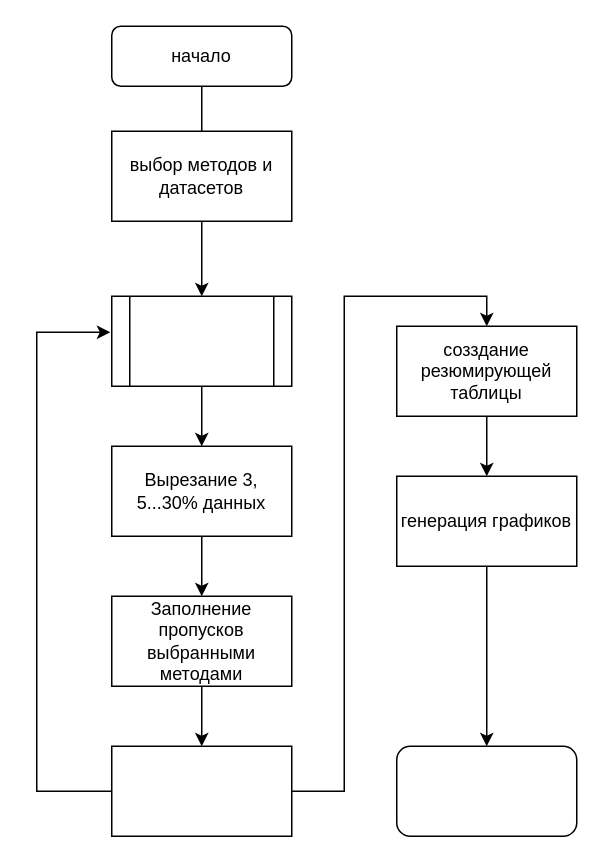
Some shapes in this 603 by 863 pixel diagram are drawn without their labels. Here are the shapes that lost their labels. From the top down, the centre of each, then its label:
At [201,340]: "for dataset in datasets".
At [201,790]: "Сохранение результатов".
At [486,790]: "конец".
